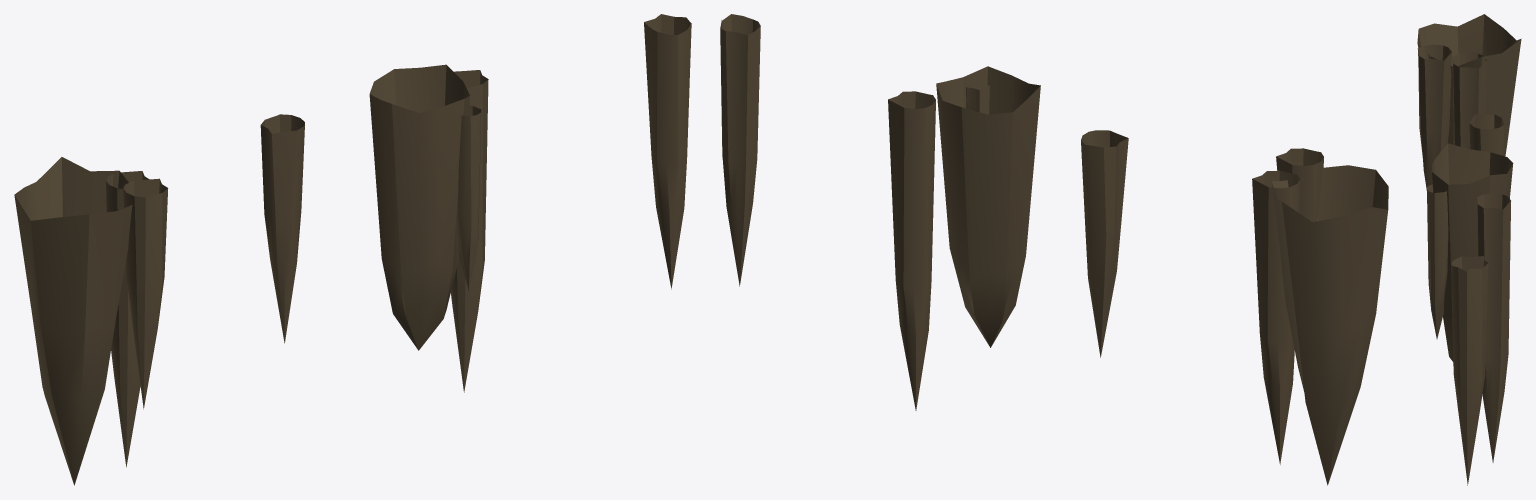
Rendered from stalagtite_3.fbx.
3 renders of one model, left to right at view 1: azimuth 30°, elevation 25°; view 2: azimuth 150°, elevation 25°; view 3: azimuth 270°, elevation 25°, orthographic. The views are drawn at different scales.
Visible parts, largest first — view 1: stalactite_3; view 2: stalactite_3; view 3: stalactite_3.
Boxes of the visible parts, box(x1,y1,x2,y2) form: stalactite_3: box(14, 14, 691, 485); stalactite_3: box(720, 14, 1388, 485); stalactite_3: box(1417, 14, 1521, 485).
Size of the model in its own units: 637 by 306 by 103.
